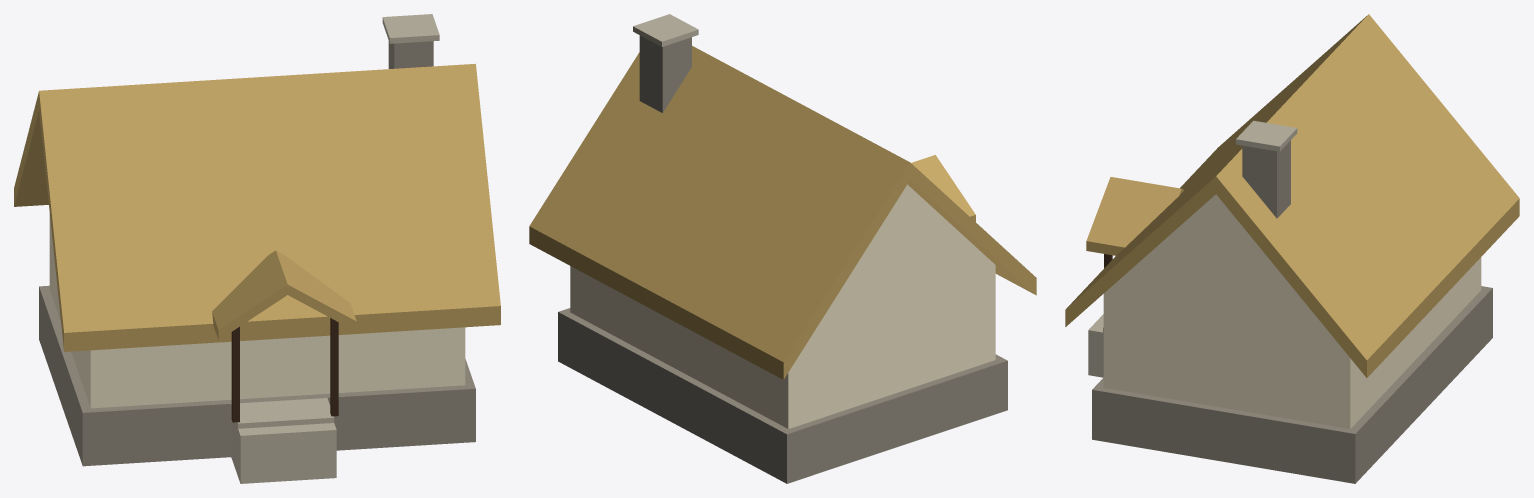
The model's file is SM_Millbrook_House1.fbx.
3 renders of one model, left to right at view 1: azimuth 30°, elevation 25°; view 2: azimuth 150°, elevation 25°; view 3: azimuth 270°, elevation 25°, orthographic. The views are drawn at different scales.
Visible parts, largest first — view 1: SM_Millbrook_House1; view 2: SM_Millbrook_House1; view 3: SM_Millbrook_House1.
Part boxes in pixels (x1,y1,x2,y2): SM_Millbrook_House1: [14, 14, 500, 483]; SM_Millbrook_House1: [529, 14, 1036, 483]; SM_Millbrook_House1: [1065, 14, 1519, 483].
Bounding box in the file's own units: 10.25 × 7.16 × 9.24.
